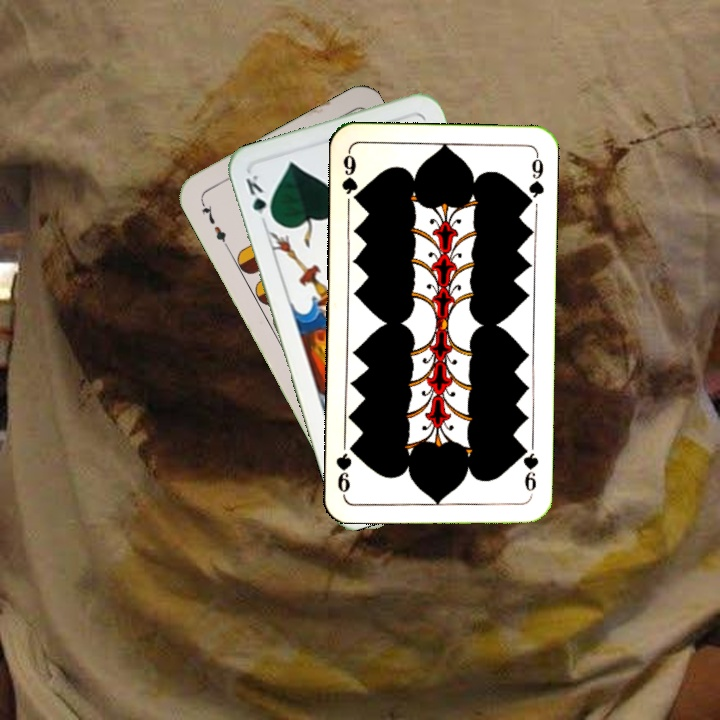E7: (196, 197, 232, 251)
G9: (338, 147, 363, 207), (518, 440, 541, 499)
GK: (241, 170, 277, 228)
